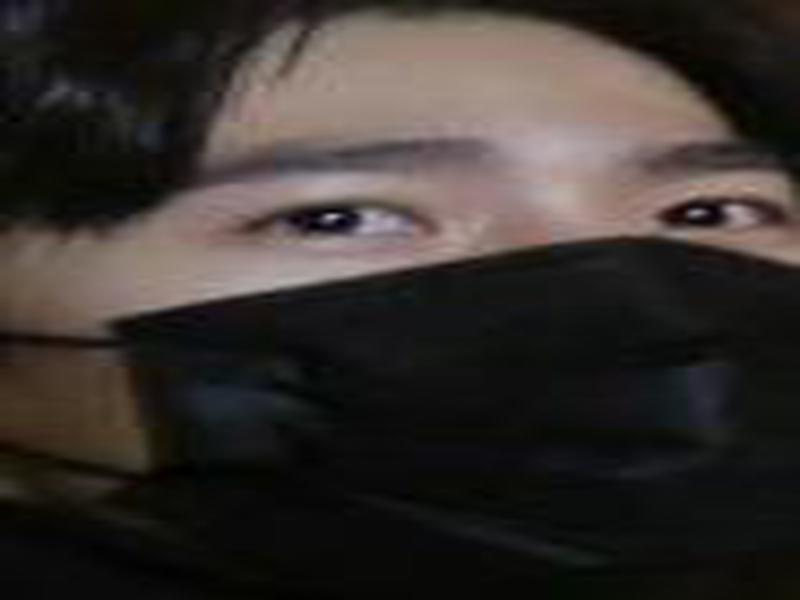with_mask: (1, 1, 794, 595)
